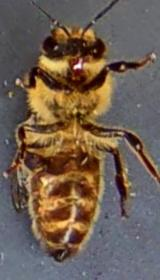varroa_mite: (68, 148, 96, 169)
